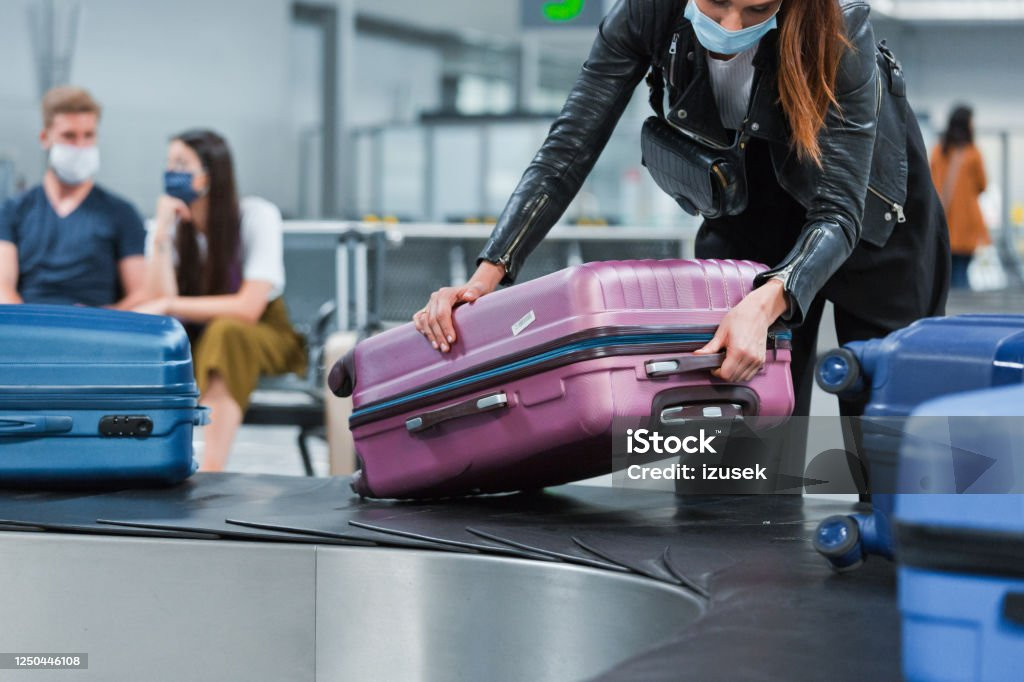baggage: (328, 252, 795, 514), (820, 302, 1024, 570), (4, 298, 211, 502)
